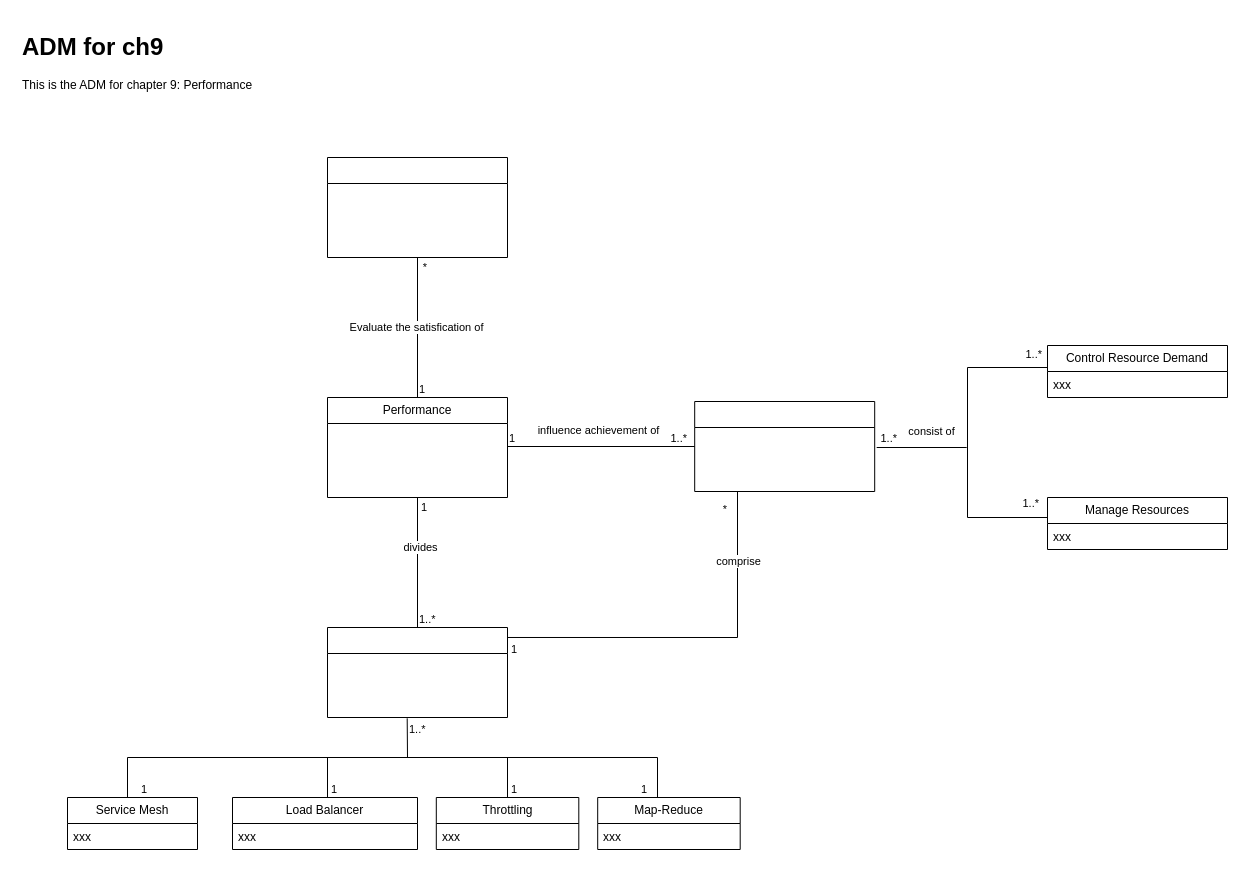
Some shapes in this 1245 by 869 pixel diagram are drawn without their labels. The shapes that lost their labels are listed below. From the top down, each one's centre as x and y in pixels, then its label:
(x=417, y=207): Tactic-Based Questionnaries
(x=784, y=446): Performance Tactics
(x=417, y=672): Patterns
